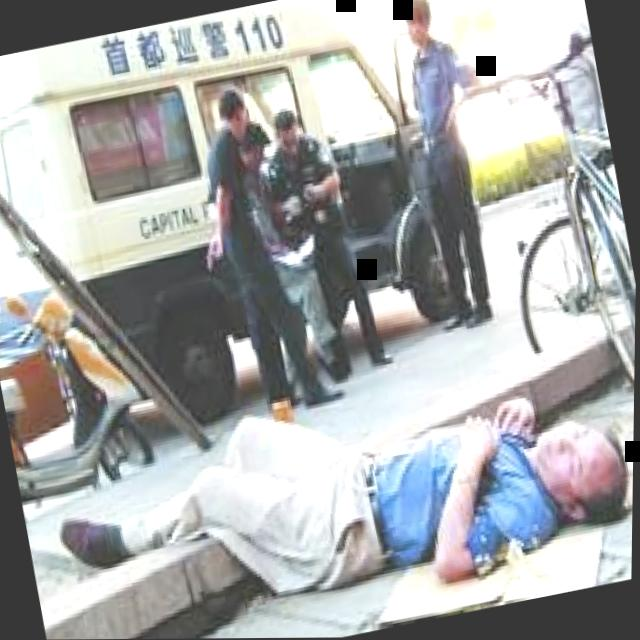Fall-Detected: (32, 311, 636, 640)
